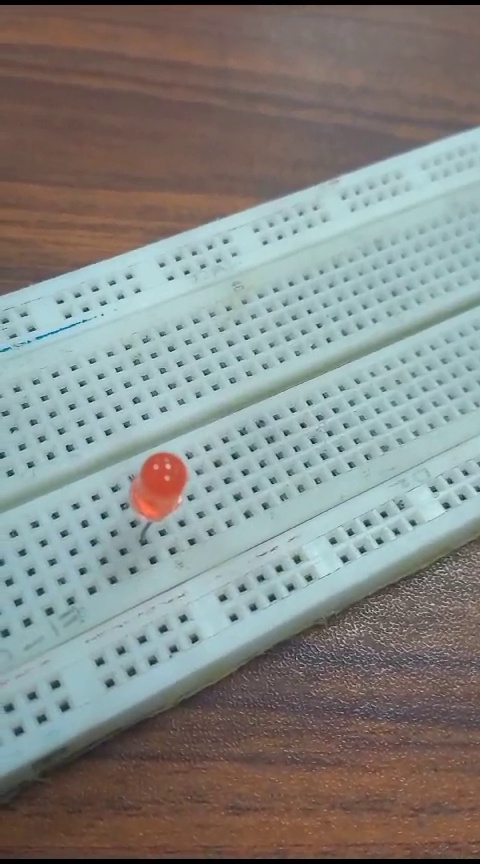LED: (116, 448, 186, 548)
